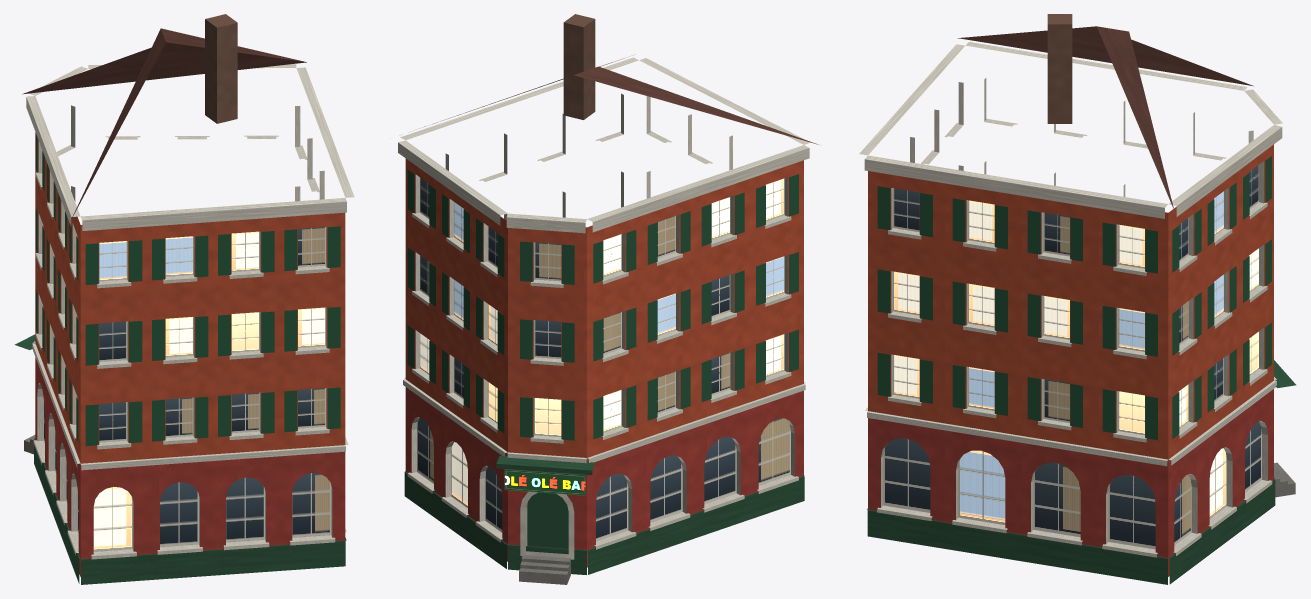
Rendered from lu_oleole.glb.
The picture shows the model from 3 angles, left to right: view 1: azimuth 30°, elevation 25°; view 2: azimuth 150°, elevation 25°; view 3: azimuth 270°, elevation 25°; orthographic projection. The views are drawn at different scales.
Parts seen in each view (by area): view 1: lu_oleole; view 2: lu_oleole; view 3: lu_oleole.
Part boxes in pixels (box(x1,y1,x2,y2)): lu_oleole: box(14, 14, 354, 584); lu_oleole: box(398, 14, 818, 584); lu_oleole: box(859, 14, 1296, 584).
Size of the model in its own units: 14.93 by 20.15 by 16.27.
Materials: 3 (3 with a texture image).
